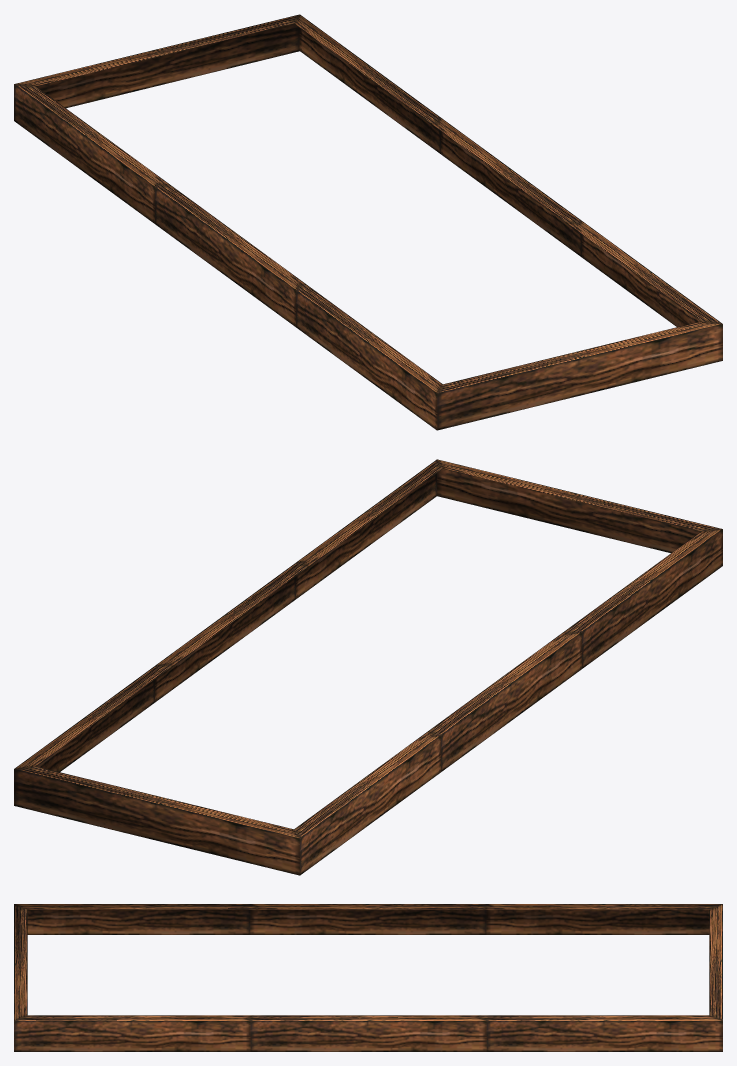
Rendered from LAKETOWN_EXTERIOR_PS_LT_BEAM1400.fbx.
3 renders of one model, top to bottom at view 1: azimuth 30°, elevation 25°; view 2: azimuth 150°, elevation 25°; view 3: azimuth 270°, elevation 25°, orthographic. The views are drawn at different scales.
Parts seen in each view (by area): view 1: LAKETOWN_EXTERIOR_PS_LT_BEAM1400; view 2: LAKETOWN_EXTERIOR_PS_LT_BEAM1400; view 3: LAKETOWN_EXTERIOR_PS_LT_BEAM1400.
Boxes of the visible parts, <box> form: LAKETOWN_EXTERIOR_PS_LT_BEAM1400: <box>14,14,722,430</box>; LAKETOWN_EXTERIOR_PS_LT_BEAM1400: <box>14,459,722,875</box>; LAKETOWN_EXTERIOR_PS_LT_BEAM1400: <box>14,904,722,1051</box>.
Bounding box in the file's own units: 27830 × 3431 × 71292.
1 material, 1 textured.
